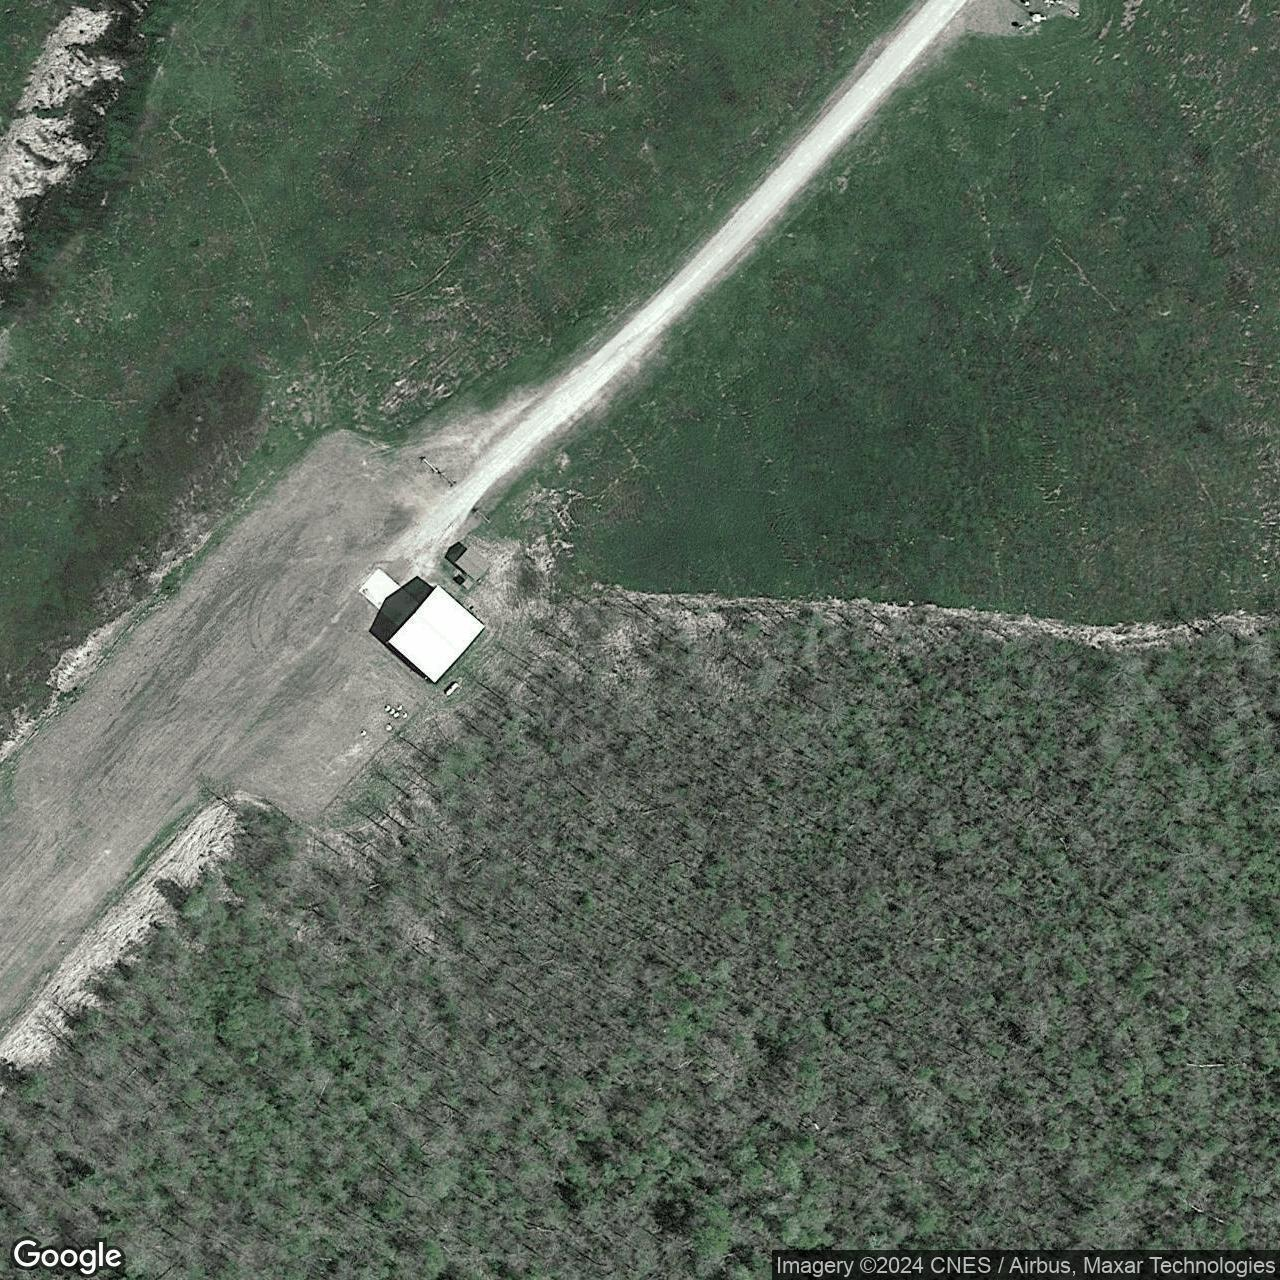Garage: (455, 545, 491, 581)
House: (386, 581, 488, 685)
Propane: (443, 680, 459, 697)
